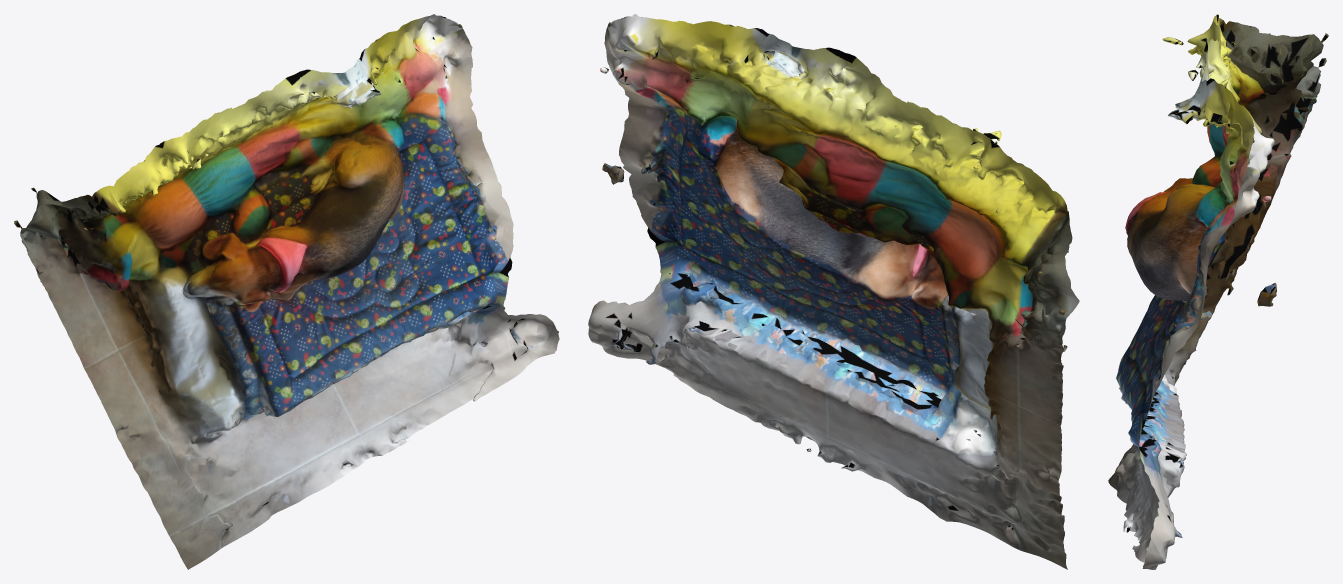
Rendered from molly.obj.
The picture shows the model from 3 angles, left to right: view 1: azimuth 30°, elevation 25°; view 2: azimuth 150°, elevation 25°; view 3: azimuth 270°, elevation 25°; orthographic projection. The views are drawn at different scales.
Bounding box in the file's own units: 74.68 × 66.18 × 24.68.
1 material, 1 textured.
